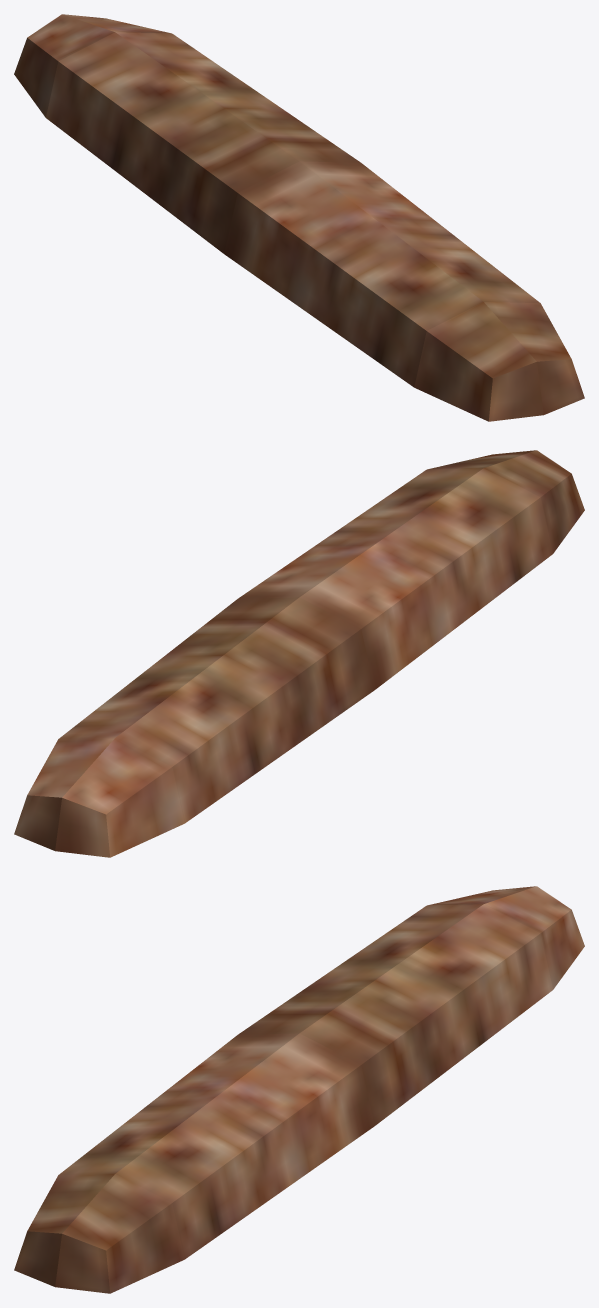
File: skippey_wholecrack_top.fbx
The picture shows the model from 3 angles, top to bottom: view 1: azimuth 30°, elevation 25°; view 2: azimuth 150°, elevation 25°; view 3: azimuth 330°, elevation 25°; orthographic projection.
Parts seen in each view (by area): view 1: skippey wholecrack top; view 2: skippey wholecrack top; view 3: skippey wholecrack top.
Part boxes in pixels (x1,y1,x2,y2): skippey wholecrack top: [14, 14, 584, 421]; skippey wholecrack top: [14, 450, 584, 857]; skippey wholecrack top: [14, 886, 584, 1293].
Bounding box in the file's own units: 0.2082 × 1.17 × 0.099.
